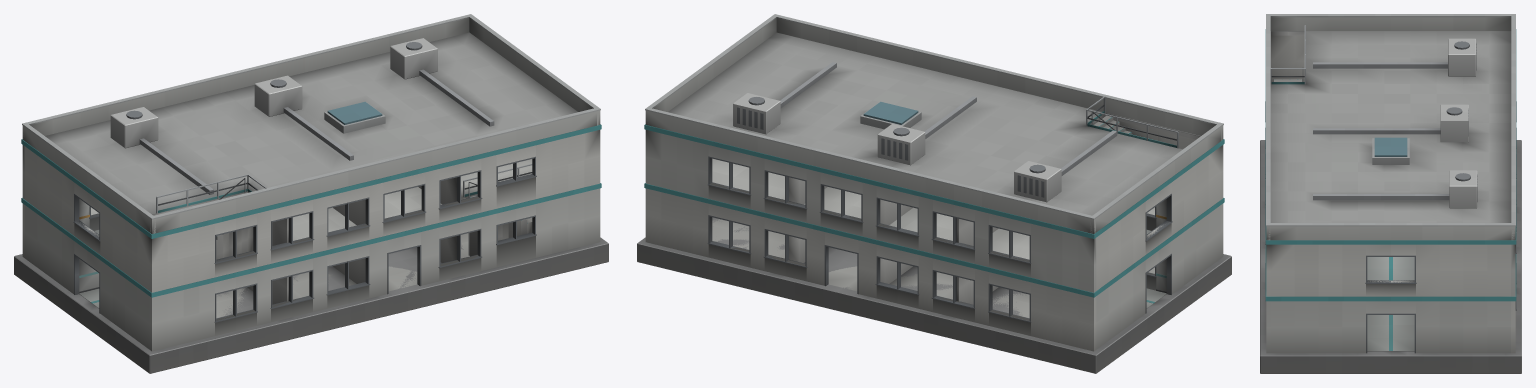
Rendered from lab_mid.glb.
3 views of the same model, side by side, from view 1: azimuth 30°, elevation 25°; view 2: azimuth 150°, elevation 25°; view 3: azimuth 270°, elevation 25° (orthographic). The views are drawn at different scales.
Parts seen in each view (by area): view 1: lab_mid_0, lab_mid_1; view 2: lab_mid_0, lab_mid_1; view 3: lab_mid_0, lab_mid_1.
Boxes of the visible parts, x1,y1,x2,y2 form: lab_mid_0: (14, 14, 608, 373); lab_mid_1: (15, 17, 607, 373); lab_mid_0: (637, 14, 1231, 373); lab_mid_1: (637, 14, 1231, 373); lab_mid_0: (1260, 14, 1521, 373); lab_mid_1: (1260, 14, 1521, 373).
Size of the model in its own units: 32.8 by 11.02 by 16.8.
